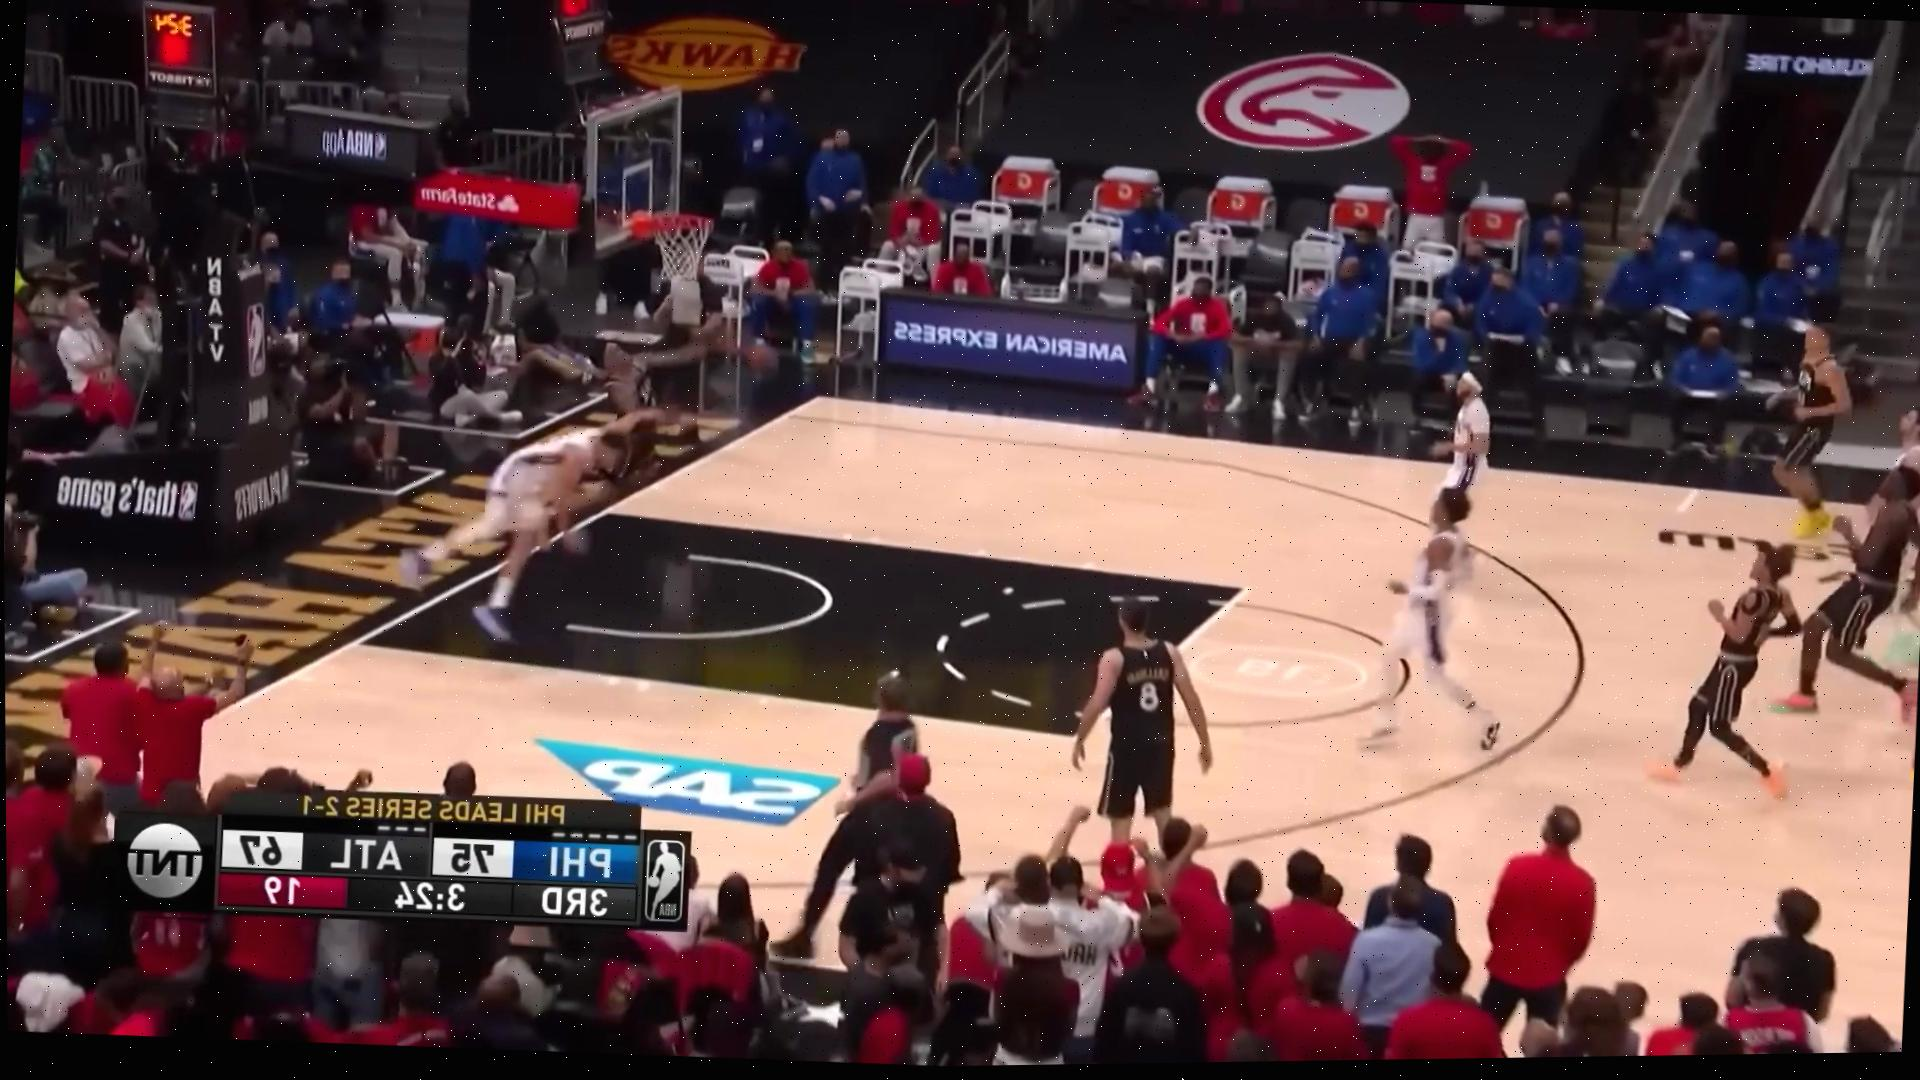foul: (402, 340, 719, 652)
